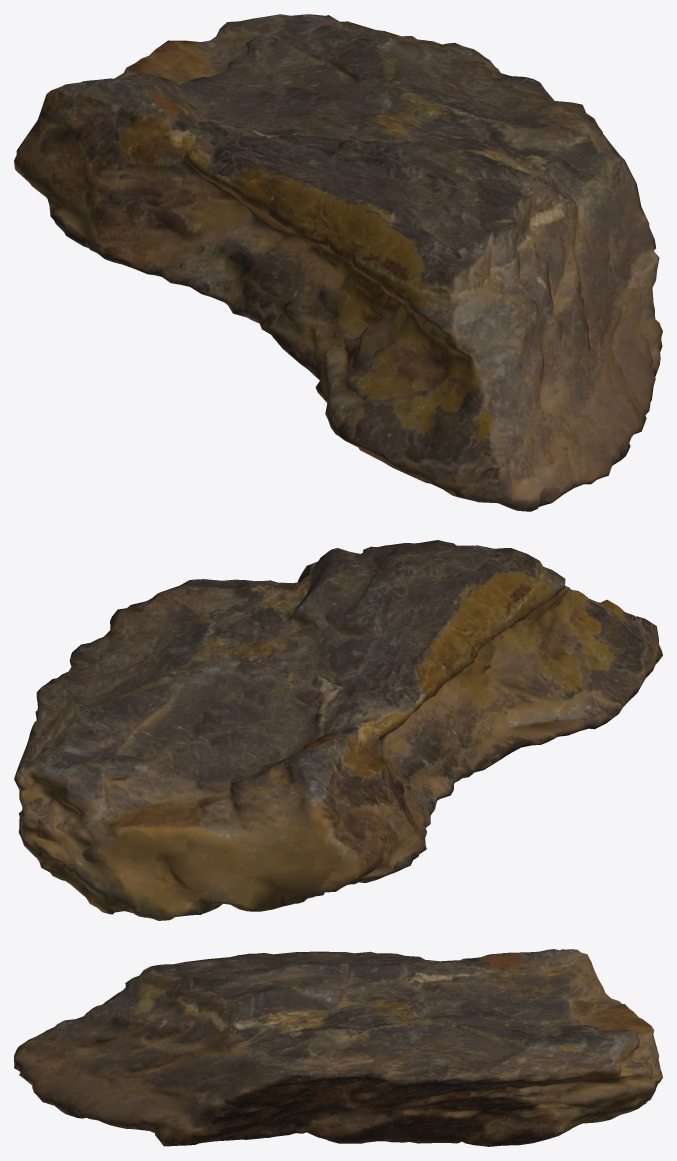
The model's file is NAT_Rock09.glb.
3 renders of one model, top to bottom at view 1: azimuth 30°, elevation 25°; view 2: azimuth 150°, elevation 25°; view 3: azimuth 270°, elevation 25°, orthographic. The views are drawn at different scales.
Parts seen in each view (by area): view 1: rock_09_LOD0; view 2: rock_09_LOD0; view 3: rock_09_LOD0.
Boxes of the visible parts, x1,y1,x2,y2 form: rock_09_LOD0: [14, 14, 662, 511]; rock_09_LOD0: [14, 540, 662, 920]; rock_09_LOD0: [14, 949, 662, 1146].
Bounding box in the file's own units: 0.074 × 0.0329 × 0.1446.
1 material, 1 textured.
